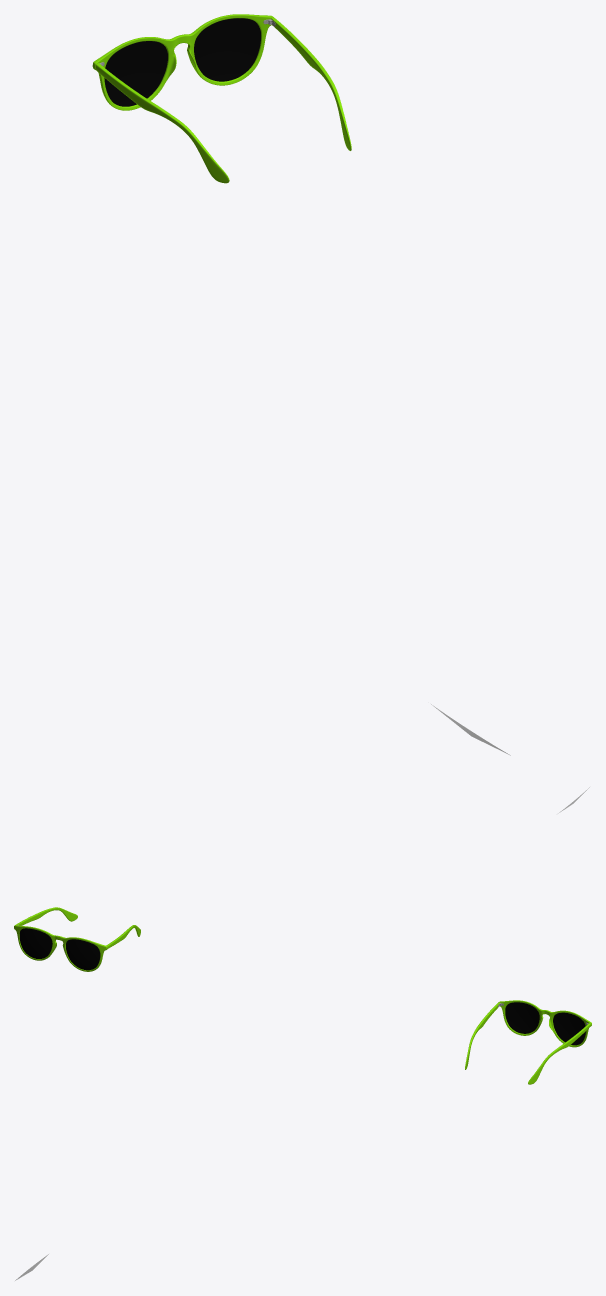
The picture shows the model from 3 angles, top to bottom: view 1: azimuth 30°, elevation 25°; view 2: azimuth 150°, elevation 25°; view 3: azimuth 330°, elevation 25°; orthographic projection. The views are drawn at different scales.
Visible parts, largest first — view 1: Glasses:Sphere002, Glasses:Sphere001, Glasses:Line001, Glasses:Line002, Glasses:Line003; view 2: Glasses:Sphere001, Glasses:Sphere002, Glasses:Line001, Glasses:Line003; view 3: Glasses:Sphere001, Glasses:Sphere002, Glasses:Line001, Glasses:Line003.
Boxes of the visible parts, x1,y1,x2,y2 form: Glasses:Sphere002: (194, 18, 260, 81); Glasses:Sphere001: (104, 41, 167, 106); Glasses:Line001: (92, 14, 274, 110); Glasses:Line002: (95, 63, 229, 183); Glasses:Line003: (271, 18, 351, 150); Glasses:Sphere001: (66, 939, 100, 970); Glasses:Sphere002: (19, 928, 52, 958); Glasses:Line001: (14, 925, 107, 971); Glasses:Line003: (16, 907, 77, 925); Glasses:Sphere001: (505, 1002, 539, 1033); Glasses:Sphere002: (553, 1012, 585, 1045); Glasses:Line001: (498, 1000, 591, 1047); Glasses:Line003: (528, 1023, 590, 1084).
Bounding box in the file's own units: 34.49 × 9.56 × 90.35.
